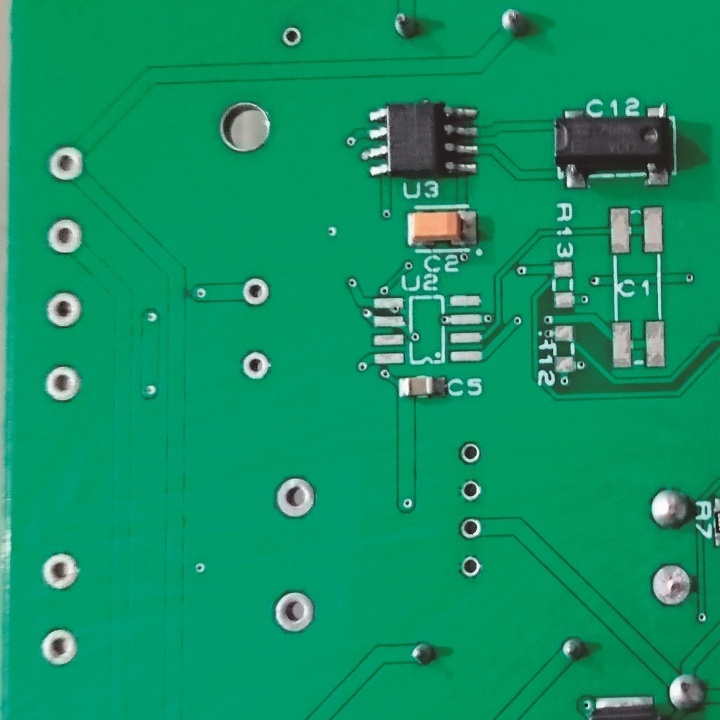F: (648, 560, 693, 612), (271, 588, 319, 635), (273, 471, 316, 522), (40, 551, 84, 594), (44, 361, 83, 406), (44, 215, 85, 257), (44, 143, 87, 183), (45, 288, 82, 329), (44, 625, 78, 669), (241, 343, 273, 384), (241, 277, 273, 309), (457, 477, 484, 505), (459, 553, 486, 581), (279, 24, 305, 51), (459, 440, 484, 467), (459, 515, 483, 541)
